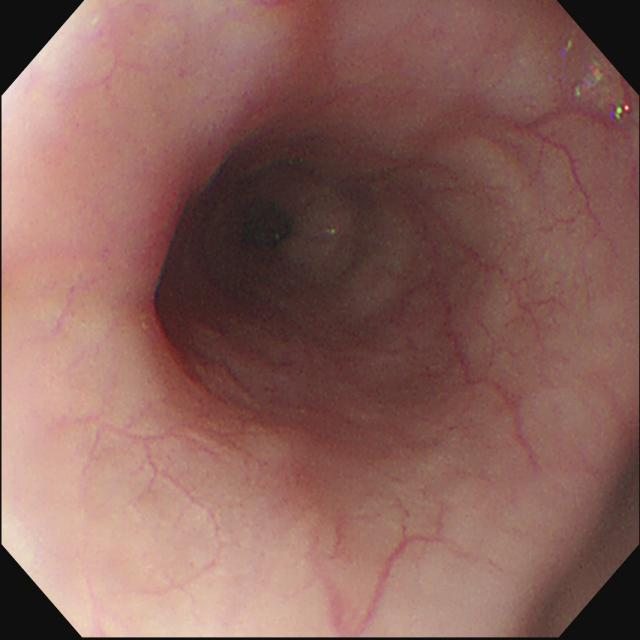A: (153, 235, 240, 410)
E: (231, 190, 297, 254)
U: (613, 104, 634, 122)
